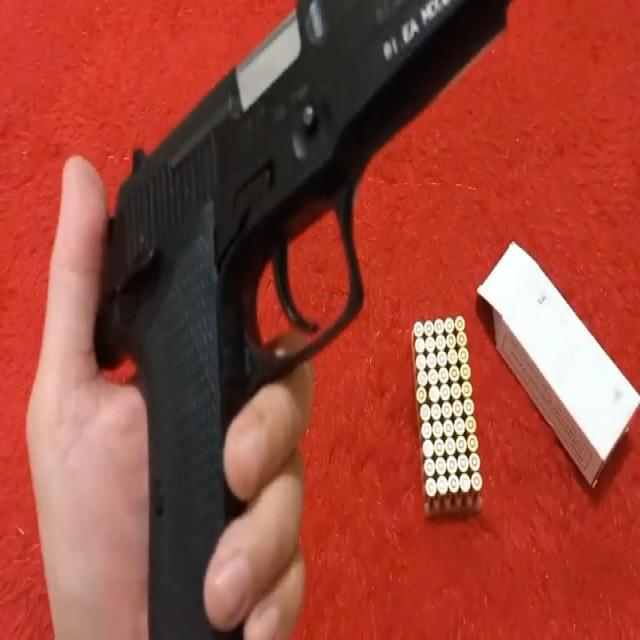handgun: (97, 0, 505, 636)
